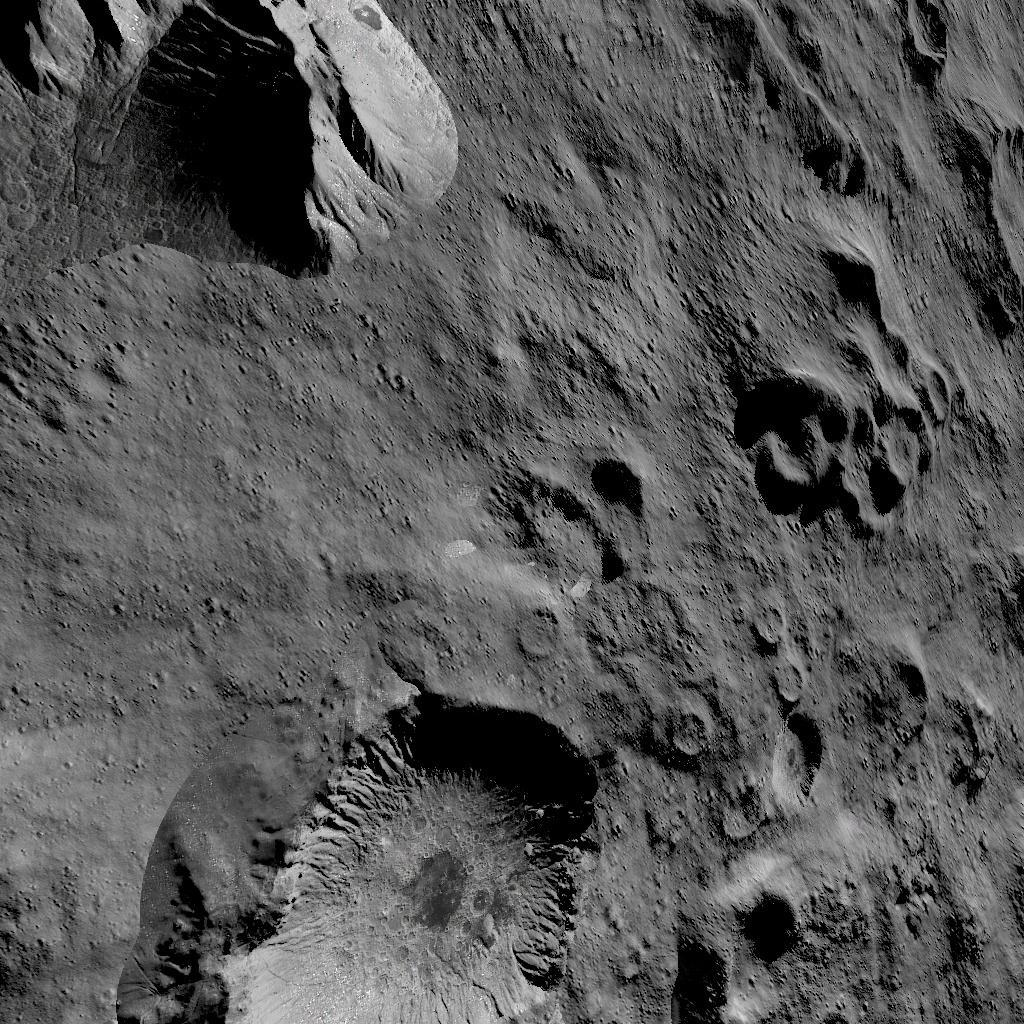Boulders: (1, 0, 464, 332)
Crater: (127, 684, 620, 1022), (731, 352, 959, 529), (669, 862, 812, 1024), (743, 604, 832, 814), (507, 456, 652, 582), (947, 110, 1024, 321), (891, 0, 969, 78), (867, 658, 933, 750), (811, 242, 885, 321), (659, 700, 720, 766), (507, 604, 567, 666)
Plan surface: (0, 340, 496, 673), (505, 2, 708, 440)
